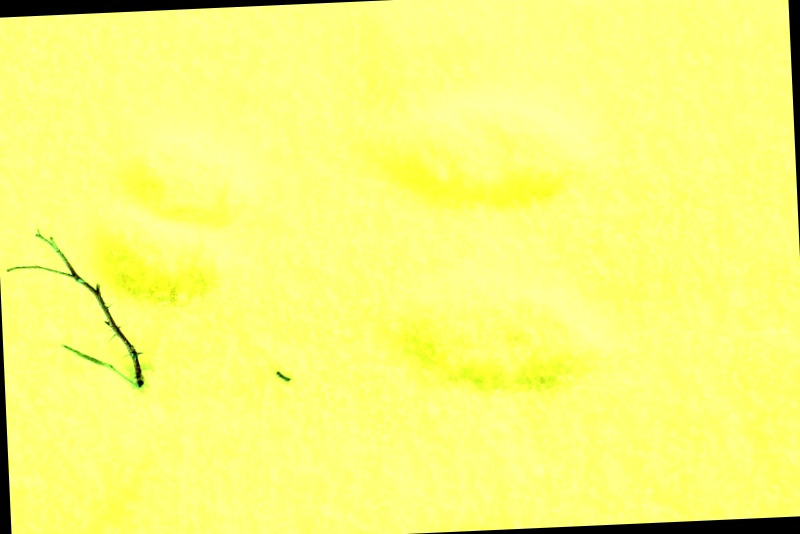lapin: (345, 252, 625, 426), (334, 81, 596, 226), (76, 133, 267, 330)
